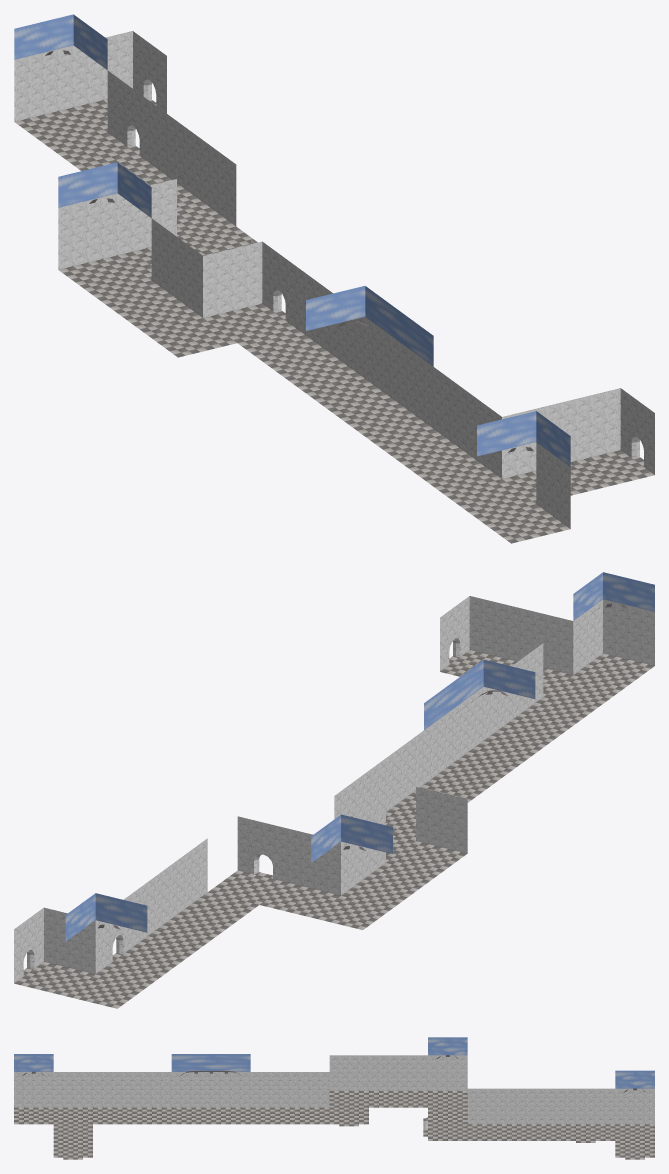
Rendered from Hallway14.glb.
The picture shows the model from 3 angles, top to bottom: view 1: azimuth 30°, elevation 25°; view 2: azimuth 150°, elevation 25°; view 3: azimuth 270°, elevation 25°; orthographic projection. The views are drawn at different scales.
Visible parts, largest first — view 1: Walls.013, Floor.012, Sky.012; view 2: Walls.013, Floor.012, Sky.012; view 3: Walls.013, Floor.012, Sky.012.
Part boxes in pixels (x1,y1,x2,y2): Walls.013: (14,31,654,528); Floor.012: (15,99,654,543); Sky.012: (14,14,570,466); Walls.013: (14,596,654,983); Floor.012: (14,650,654,1008); Sky.012: (65,572,654,941); Walls.013: (14,1055,654,1129); Floor.012: (14,1091,654,1159); Sky.012: (14,1037,654,1088).
Size of the model in its own units: 16.5 by 6 by 65.02.
Materials: 4 (4 with a texture image).
